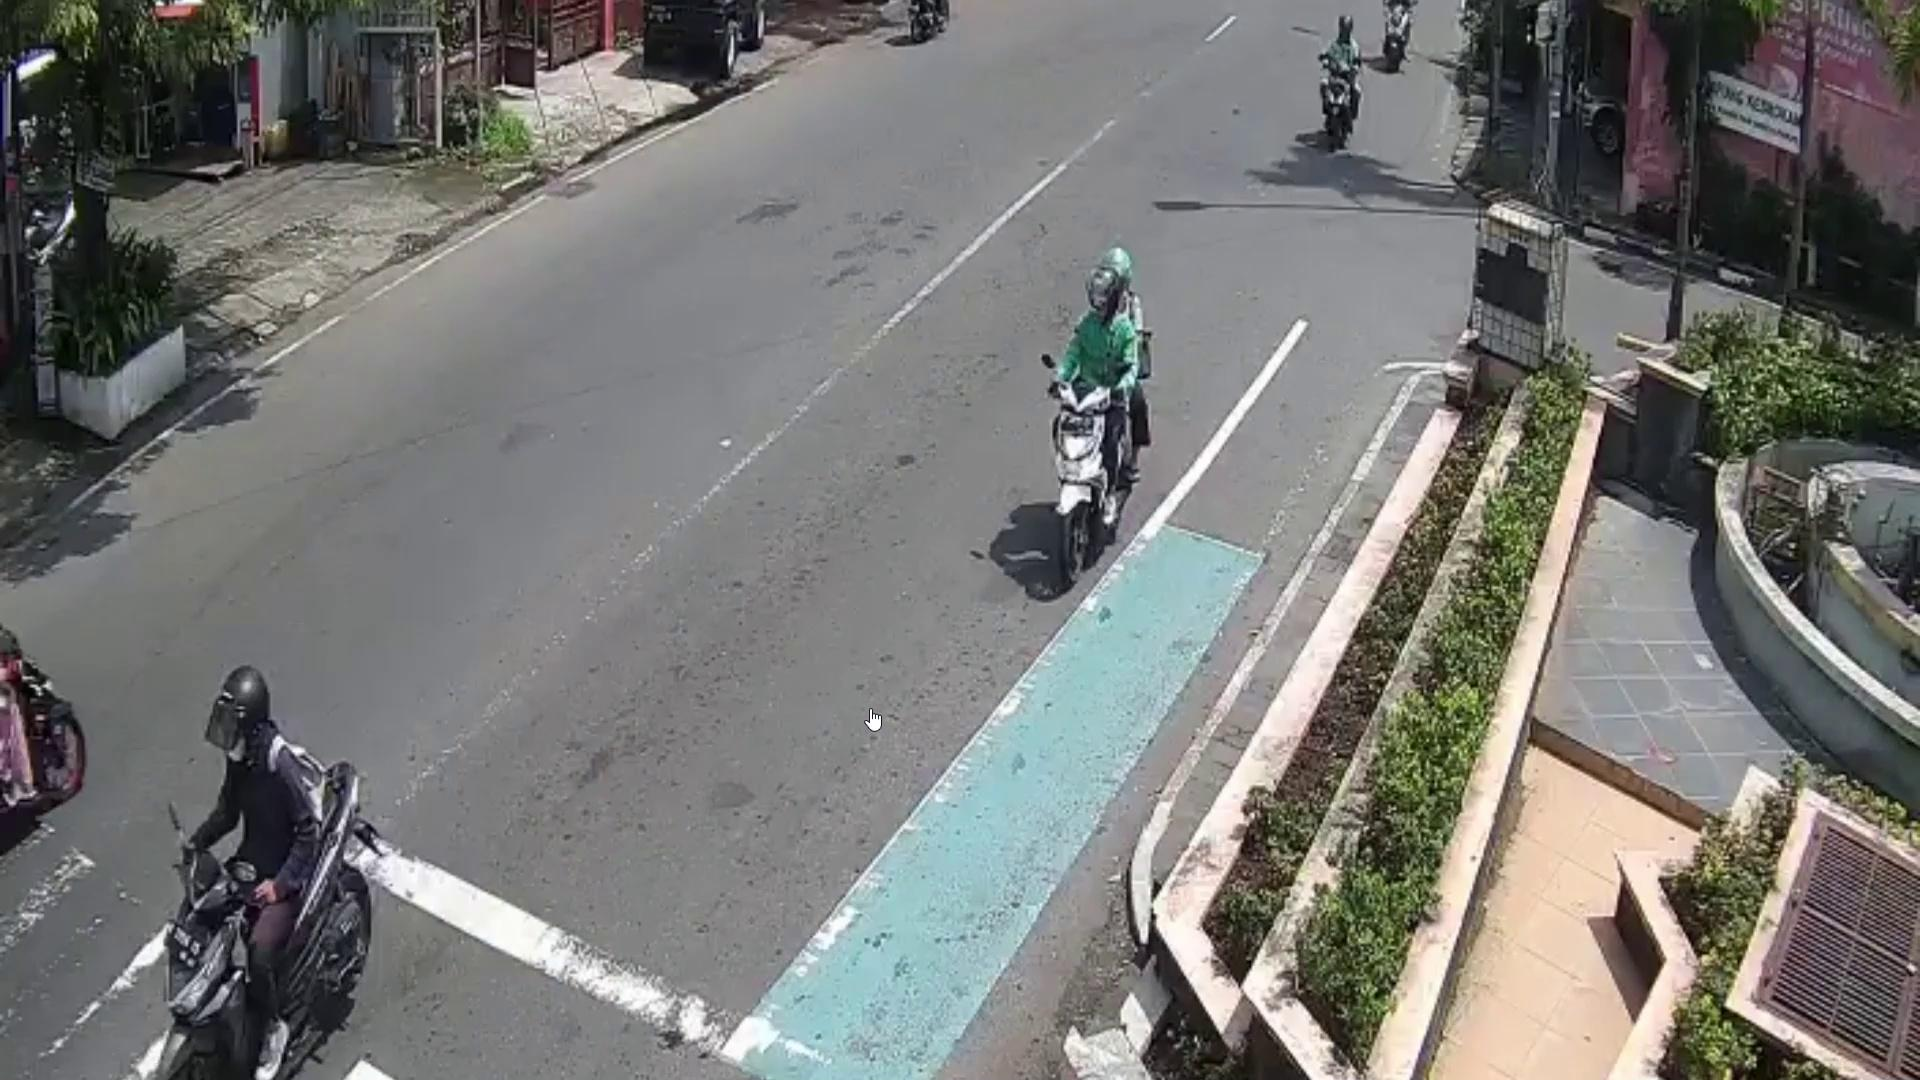motorbike: (150, 758, 381, 1080), (1046, 375, 1116, 575), (1320, 57, 1353, 148)
